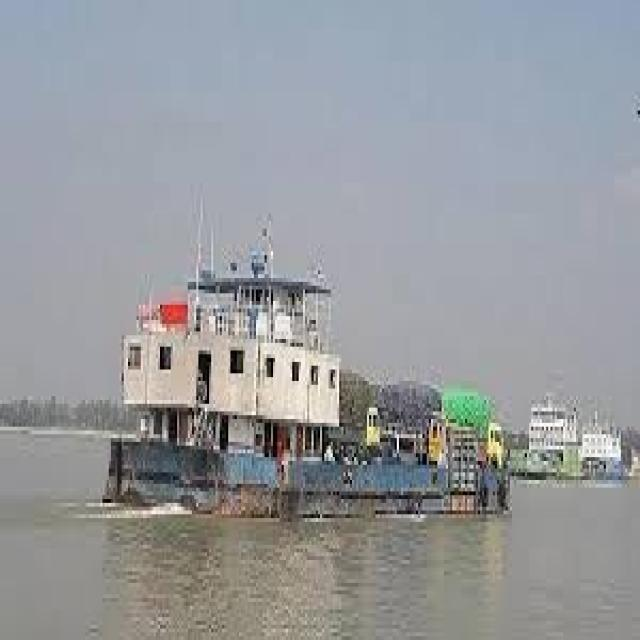cargoship: (94, 216, 516, 544)
